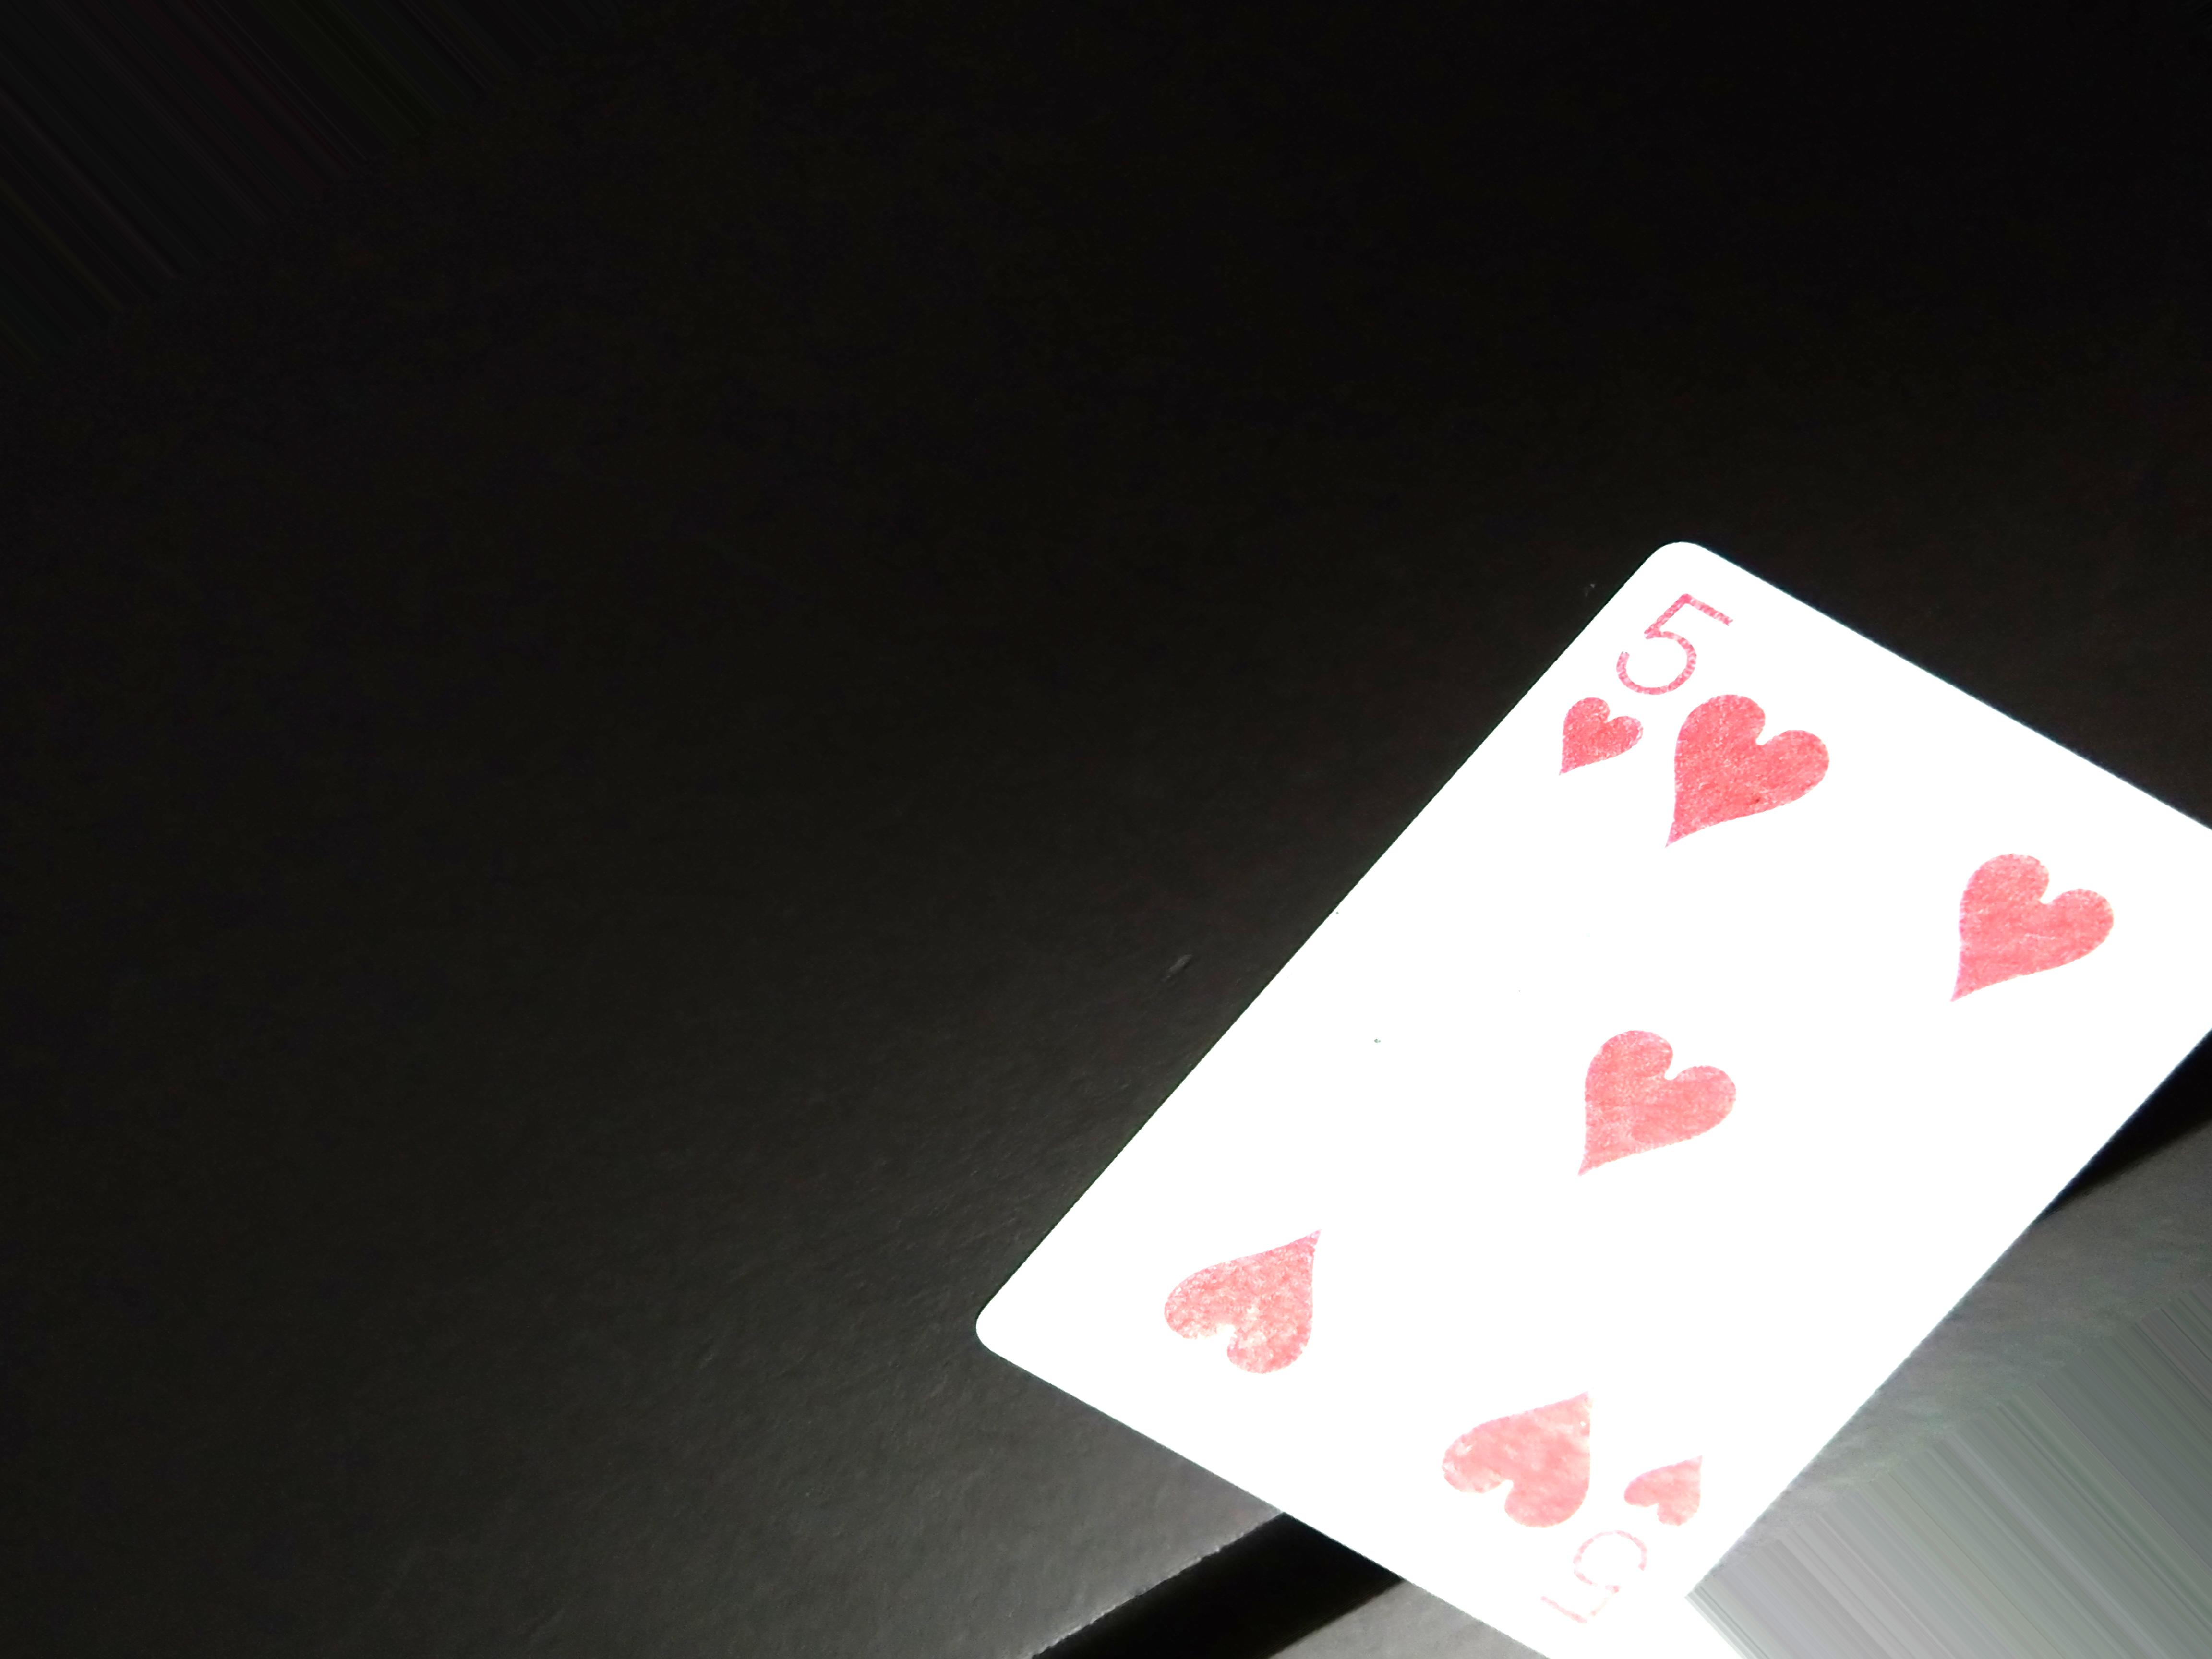5H: (1545, 577, 1731, 784)
